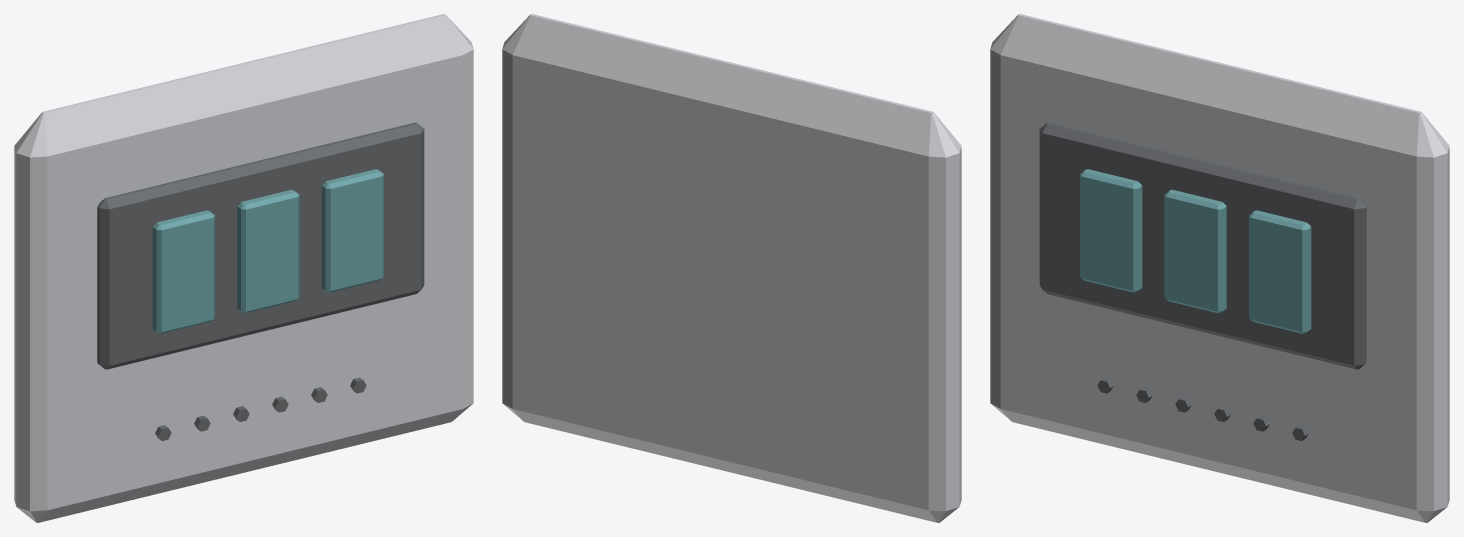
The model's file is hotel-and-resort-operations-room-number-plate-c281e2a9__25837.glb.
3 renders of one model, left to right at view 1: azimuth 30°, elevation 25°; view 2: azimuth 150°, elevation 25°; view 3: azimuth 330°, elevation 25°, orthographic.
Parts seen in each view (by area): view 1: room-number-plate; view 2: room-number-plate; view 3: room-number-plate.
Boxes of the visible parts, box(x1,y1,x2,y2) form: room-number-plate: box(14, 14, 473, 522); room-number-plate: box(502, 14, 961, 522); room-number-plate: box(990, 14, 1449, 522).
Size of the model in its own units: 0.14 by 0.12 by 0.021.
